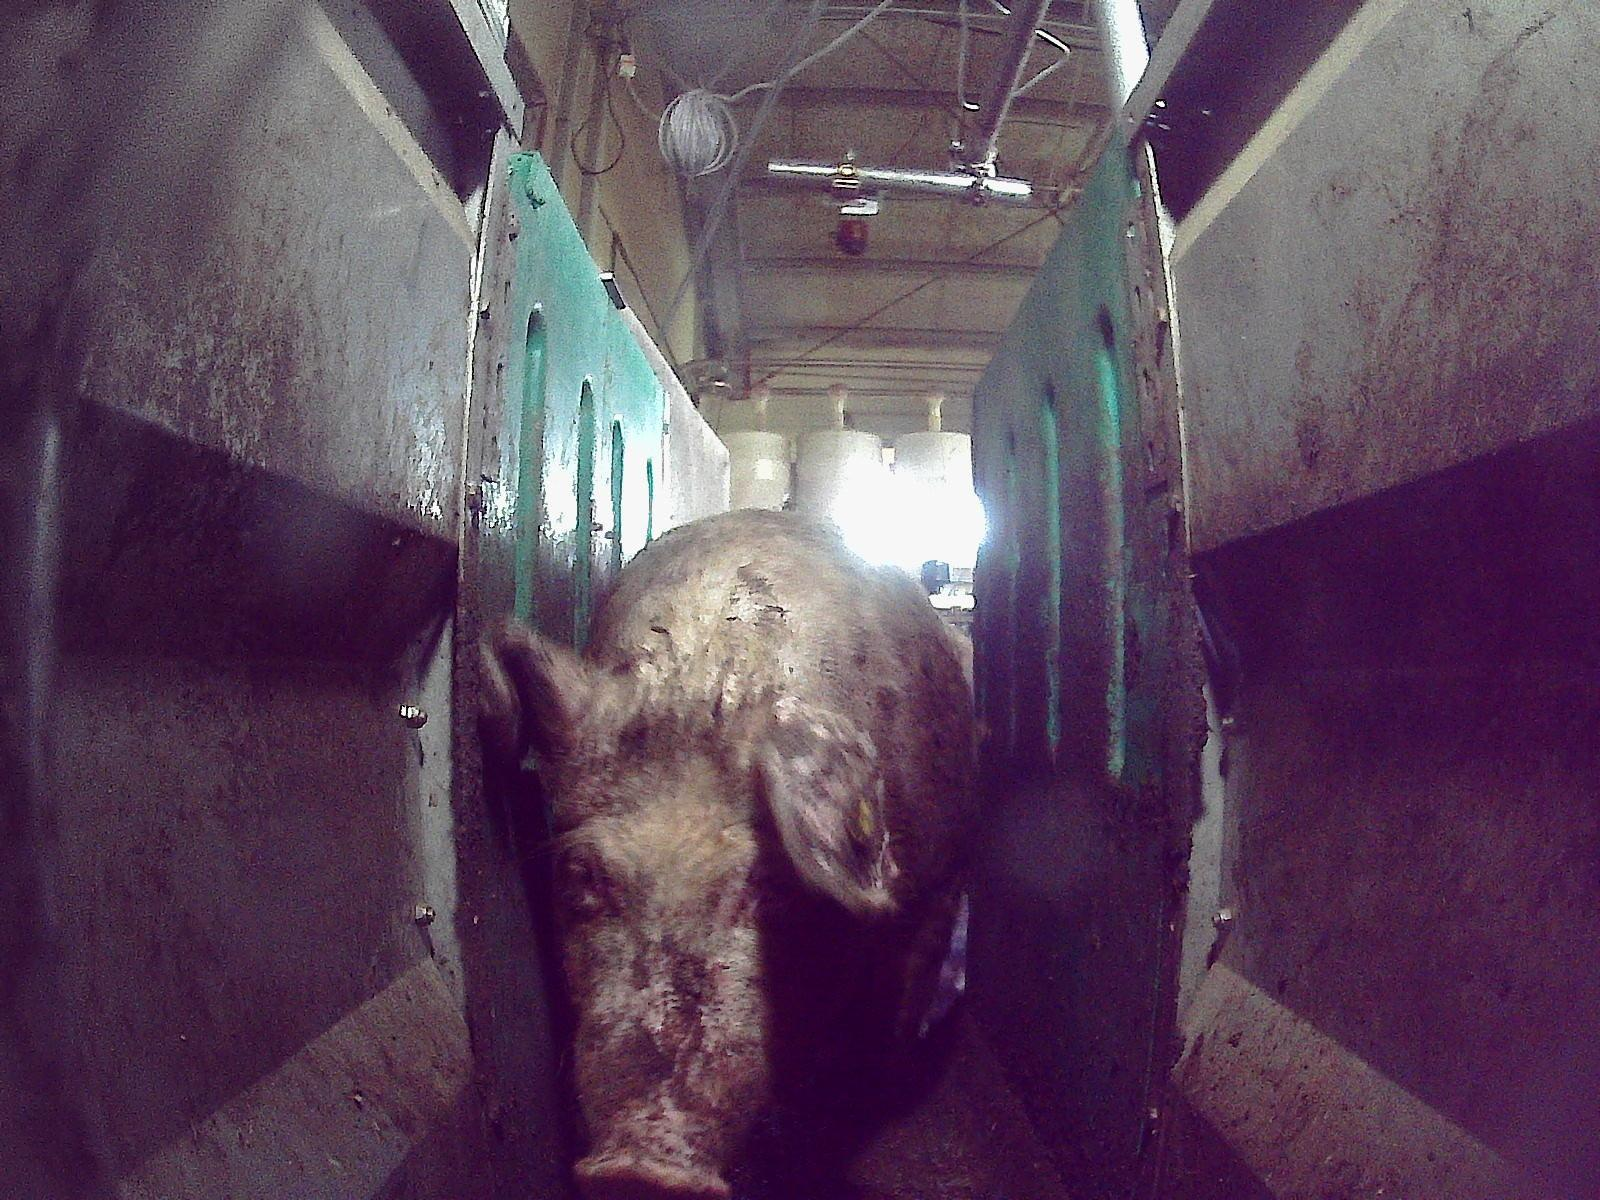Face: (538, 669, 812, 1199)
